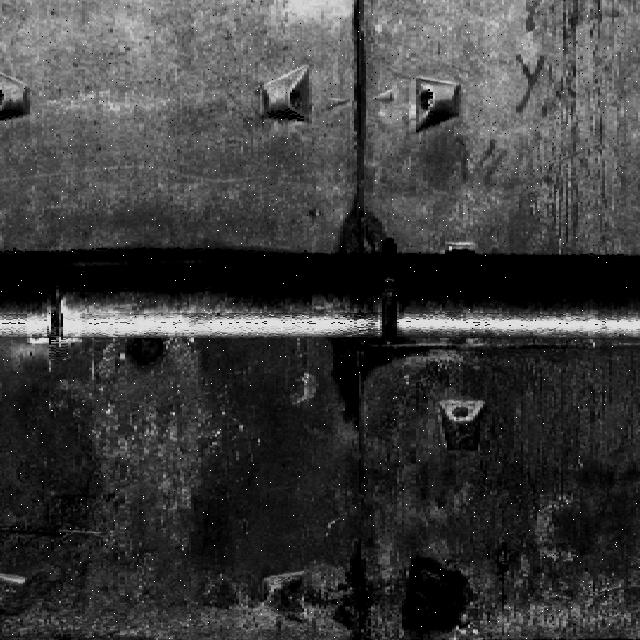leakage: (331, 1, 398, 258), (324, 334, 425, 444)
